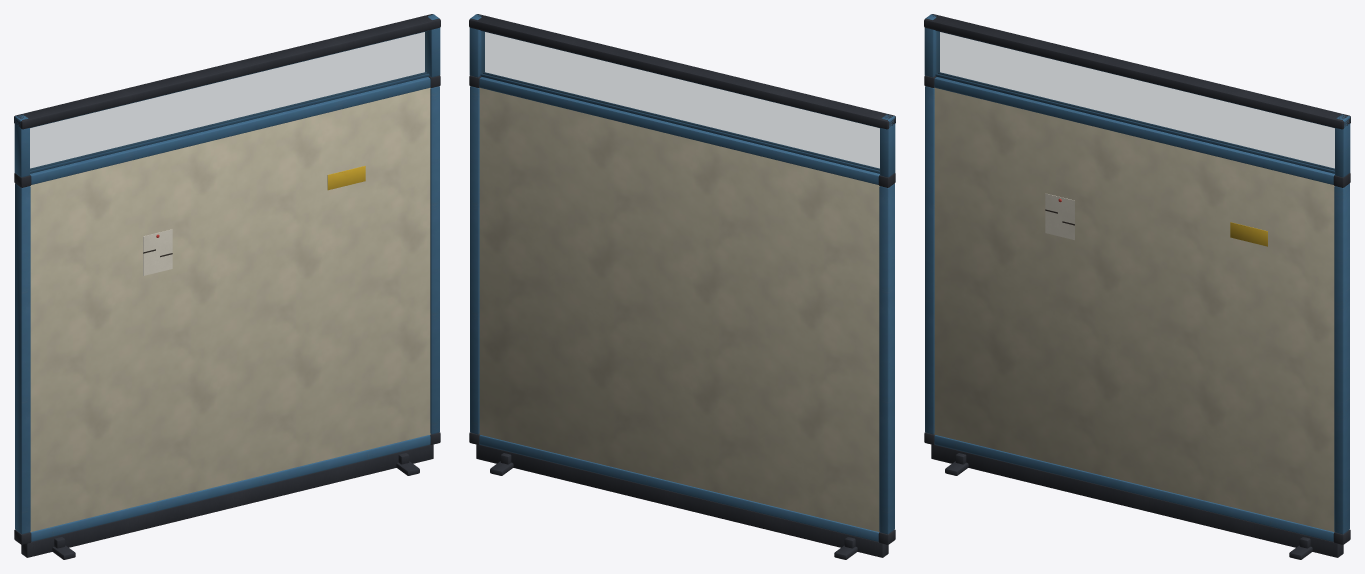
Rendered from cubicle_wall.glb.
3 views of the same model, side by side, from view 1: azimuth 30°, elevation 25°; view 2: azimuth 150°, elevation 25°; view 3: azimuth 330°, elevation 25° (orthographic).
Visible parts, largest first — view 1: CubicleWallBody; view 2: CubicleWallBody; view 3: CubicleWallBody.
Boxes of the visible parts, bbox=[...] form: CubicleWallBody: bbox=[14, 14, 440, 559]; CubicleWallBody: bbox=[469, 14, 895, 559]; CubicleWallBody: bbox=[924, 14, 1350, 559].
Bounding box in the file's own units: 2 × 2 × 0.242.
Materials: 9 (7 with a texture image).
